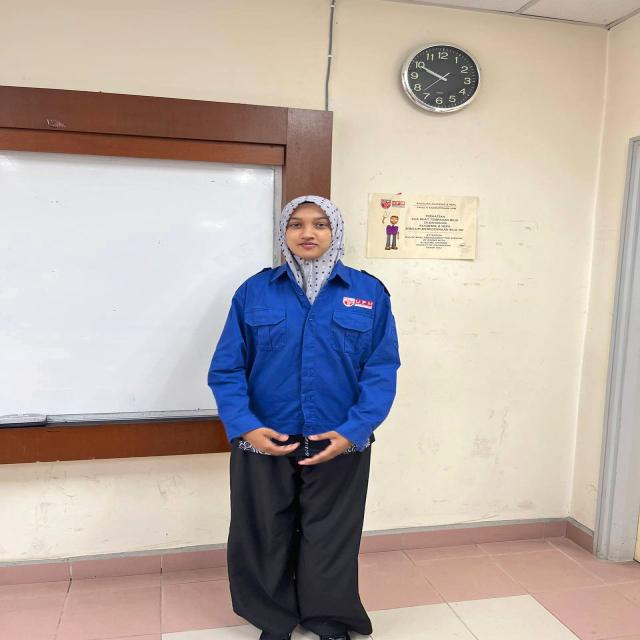person_with_labcoat: (208, 196, 400, 640)
